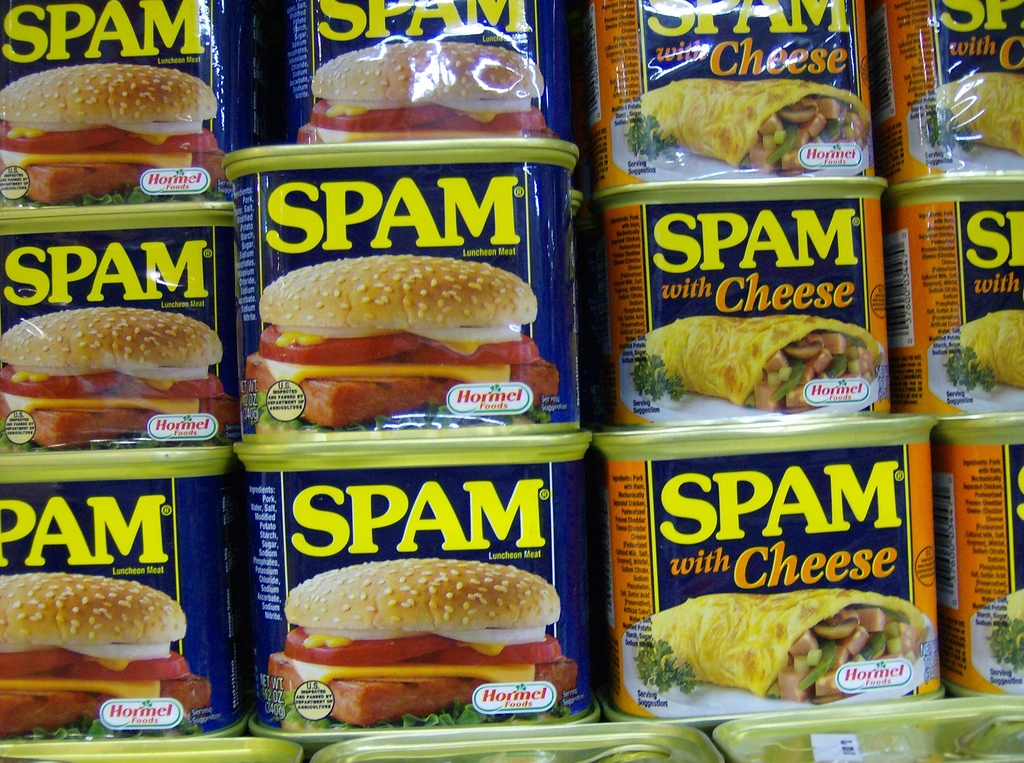Hamburger: (244, 251, 560, 425), (265, 554, 577, 728), (0, 573, 208, 736), (0, 306, 236, 447), (0, 62, 226, 202), (296, 42, 552, 144)
